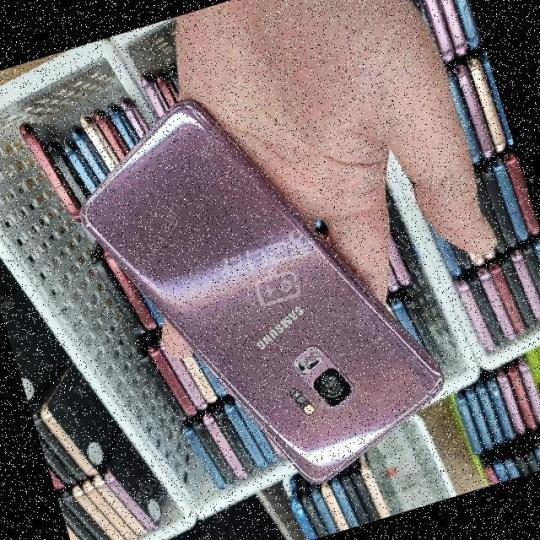phone: (69, 117, 446, 481)
